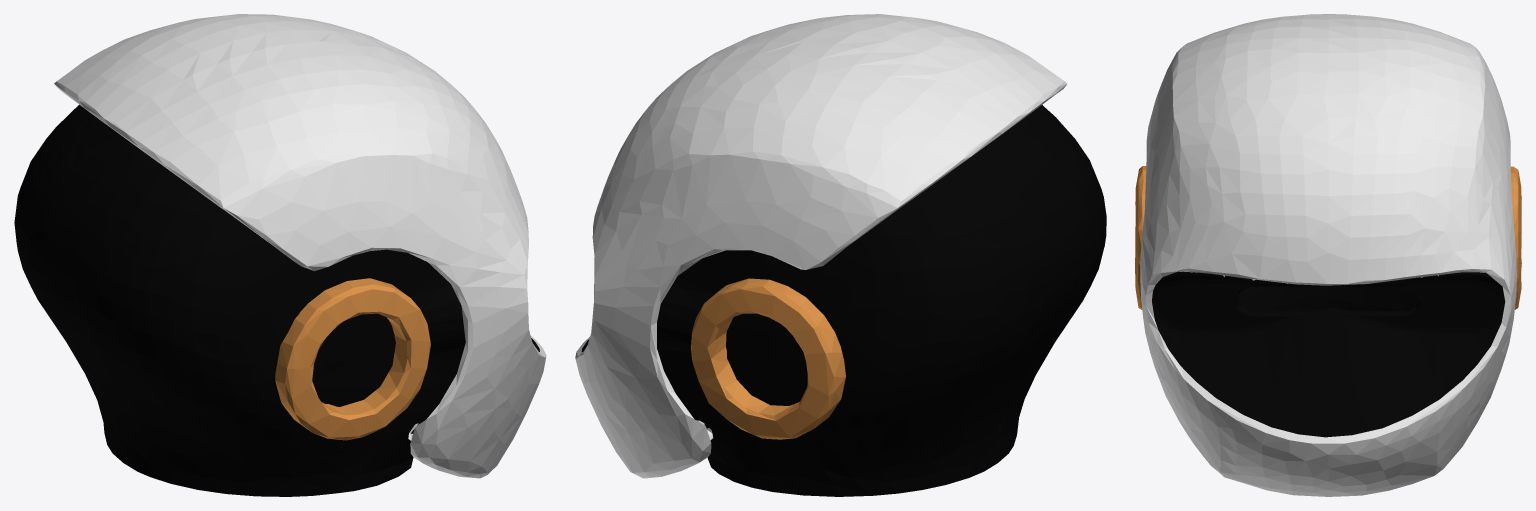
Rendered from head_2.dae.
3 renders of one model, left to right at view 1: azimuth 30°, elevation 25°; view 2: azimuth 150°, elevation 25°; view 3: azimuth 270°, elevation 25°, orthographic. The views are drawn at different scales.
Parts seen in each view (by area): view 1: Head_2; view 2: Head_2; view 3: Head_2.
Boxes of the visible parts, bbox=[...] form: Head_2: bbox=[14, 14, 546, 496]; Head_2: bbox=[575, 14, 1106, 496]; Head_2: bbox=[1135, 14, 1521, 496].
Bounding box in the file's own units: 0.2225 × 0.1873 × 0.202.
